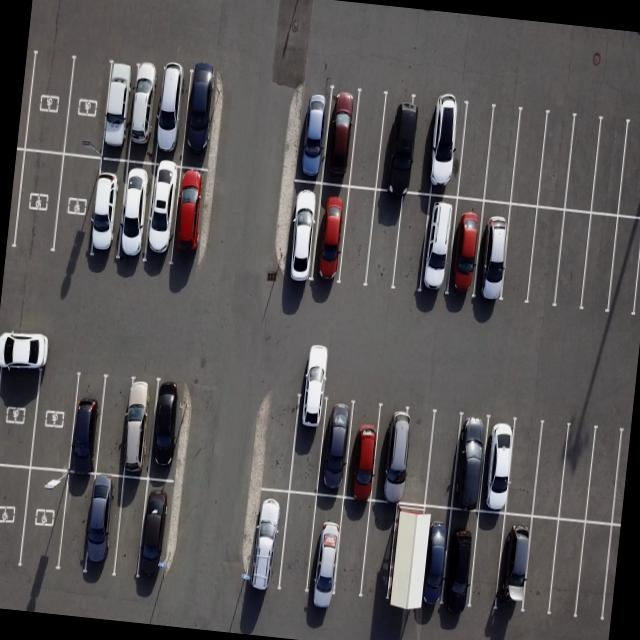car: (372, 88, 422, 194), (245, 487, 292, 599), (393, 506, 440, 618), (406, 507, 453, 618), (302, 490, 348, 602), (380, 506, 426, 617), (134, 476, 182, 582), (437, 506, 484, 612), (308, 182, 354, 290), (470, 200, 516, 308), (168, 166, 216, 269), (446, 414, 494, 514), (83, 474, 128, 580), (82, 156, 126, 264), (494, 509, 539, 614), (284, 178, 326, 290), (115, 156, 158, 264), (113, 376, 158, 479), (372, 408, 418, 508), (64, 370, 108, 474), (441, 196, 484, 302), (140, 162, 183, 268), (285, 390, 328, 496), (340, 400, 385, 500), (314, 396, 358, 498), (424, 100, 468, 200), (321, 87, 364, 189), (418, 194, 460, 298), (474, 416, 518, 514), (148, 65, 190, 166), (180, 70, 222, 170), (146, 380, 188, 480), (98, 60, 136, 162), (296, 84, 334, 186), (126, 64, 164, 163)
free: (28, 364, 82, 474), (51, 152, 104, 262), (12, 148, 63, 257), (18, 468, 70, 574), (22, 46, 72, 155), (62, 54, 112, 160), (276, 492, 322, 603), (463, 506, 509, 612), (516, 516, 562, 620), (328, 498, 373, 604), (541, 519, 587, 622), (0, 354, 41, 469), (94, 374, 140, 476), (52, 468, 96, 574), (574, 522, 618, 626), (503, 418, 548, 518), (388, 192, 432, 294), (348, 87, 392, 189), (418, 410, 463, 509), (554, 424, 598, 524), (336, 188, 378, 292), (498, 203, 540, 307), (576, 210, 618, 314), (552, 210, 594, 313), (109, 477, 150, 582), (361, 190, 404, 290), (356, 502, 399, 602), (526, 206, 568, 308), (529, 419, 572, 518), (584, 426, 626, 526), (586, 116, 628, 214), (562, 115, 603, 214), (452, 104, 493, 202), (537, 114, 578, 212), (482, 104, 522, 202), (506, 110, 546, 208), (398, 412, 438, 509), (607, 215, 640, 322), (0, 463, 28, 573), (617, 118, 640, 217)
